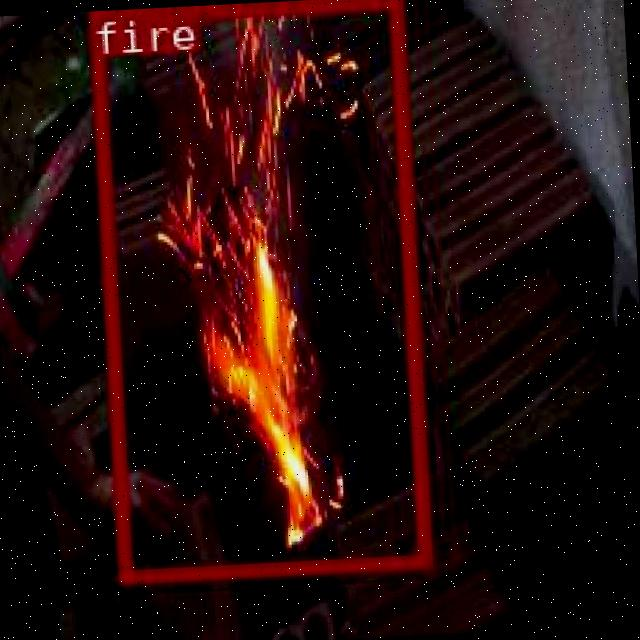fire: (87, 0, 428, 580)
